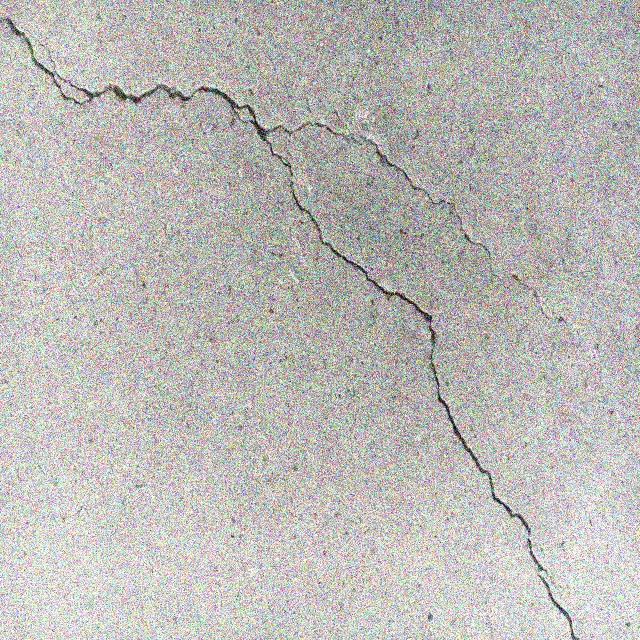SurfaceCrack: (1, 1, 634, 634)
